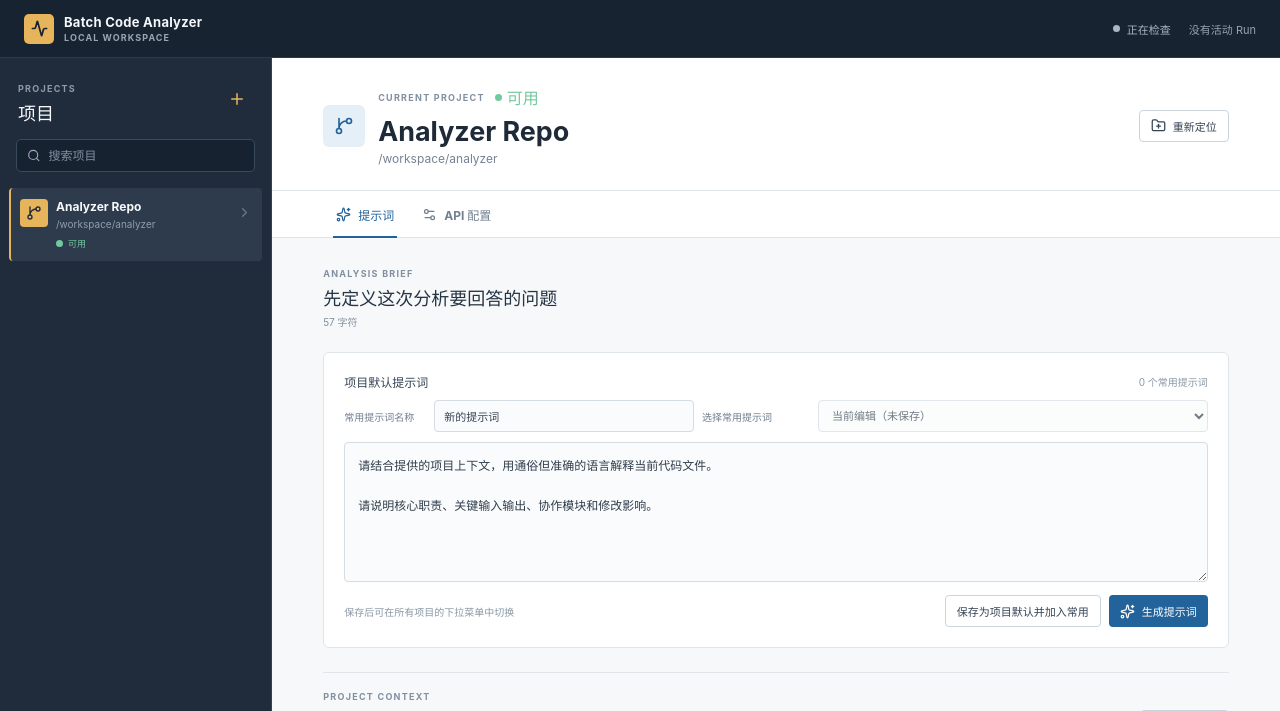
Scenario: AppShell › generates a prompt candidate and applies the edited result
This screenshot has width=1280, height=711.
Click the button "生成提示词".
click(1158, 611)  # box left=1109, top=595, right=1208, bottom=627
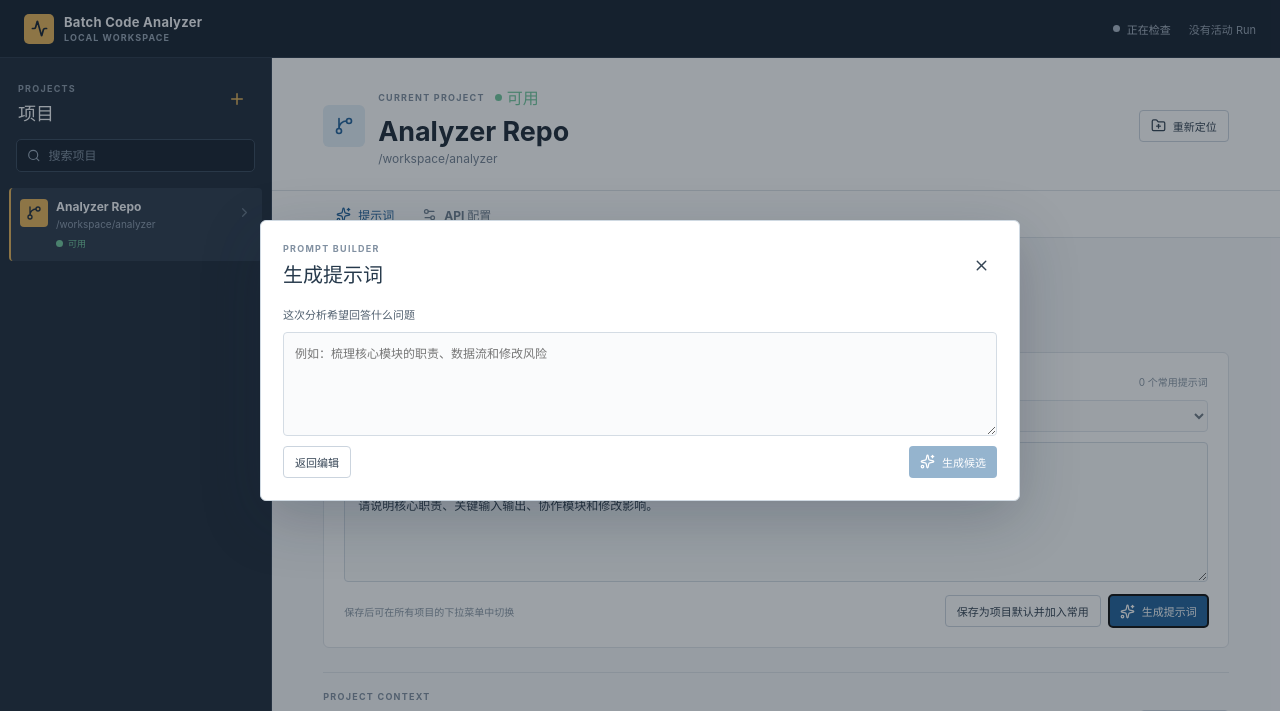
Type "梳理核心模块" into the text box labelled "这次分析希望回答什么问题".
click(640, 384); type("梳理核心模块")  # box left=283, top=332, right=997, bottom=436
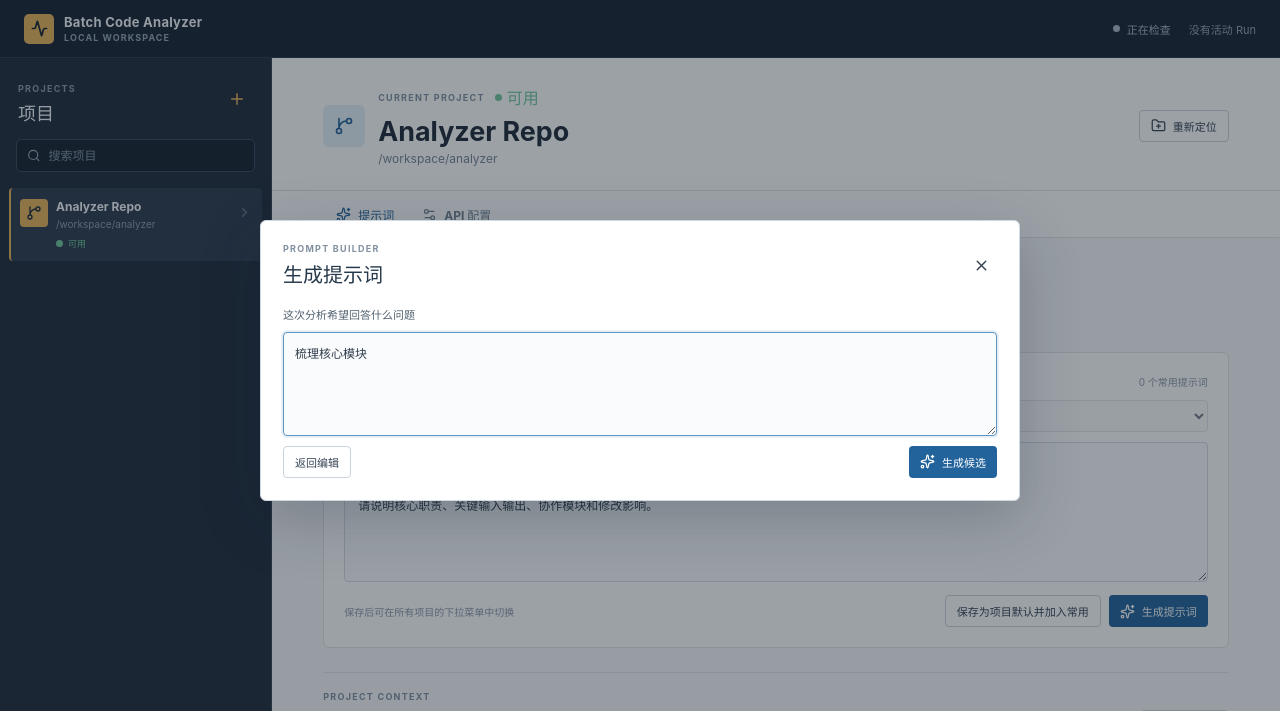
Click the button "生成候选".
click(953, 462)  # box left=909, top=446, right=997, bottom=478
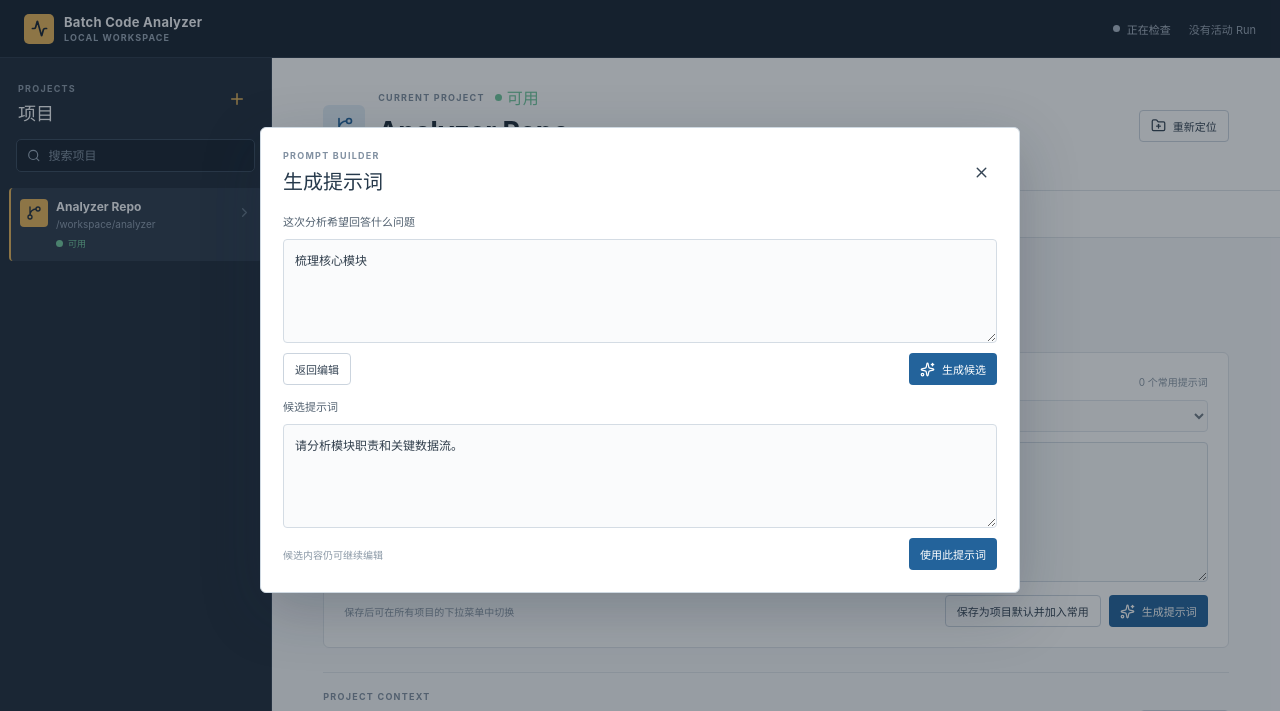
Result: the text box showing "请分析模块职责和关键数据流。" is shown at left=283, top=424, right=997, bottom=528
Click the button "使用此提示词".
click(953, 554)  # box left=909, top=538, right=997, bottom=570
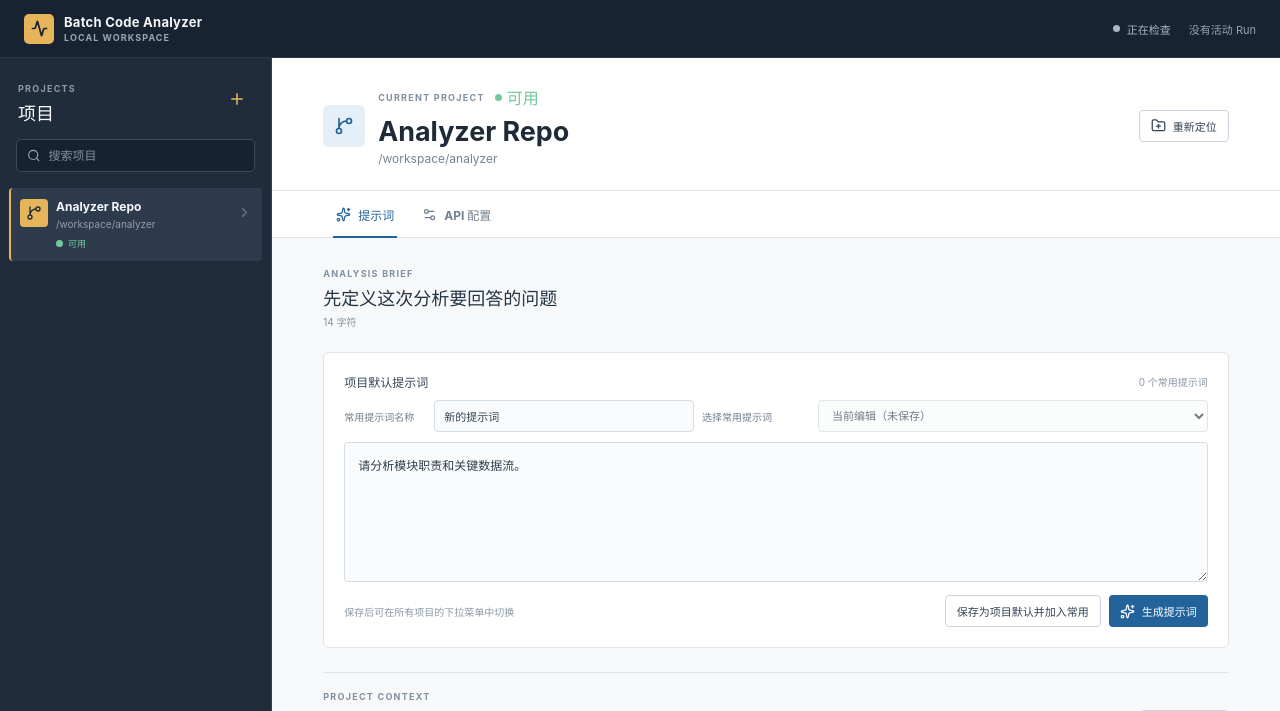
Result: the text box showing "请分析模块职责和关键数据流。" is shown at left=344, top=442, right=1208, bottom=582
